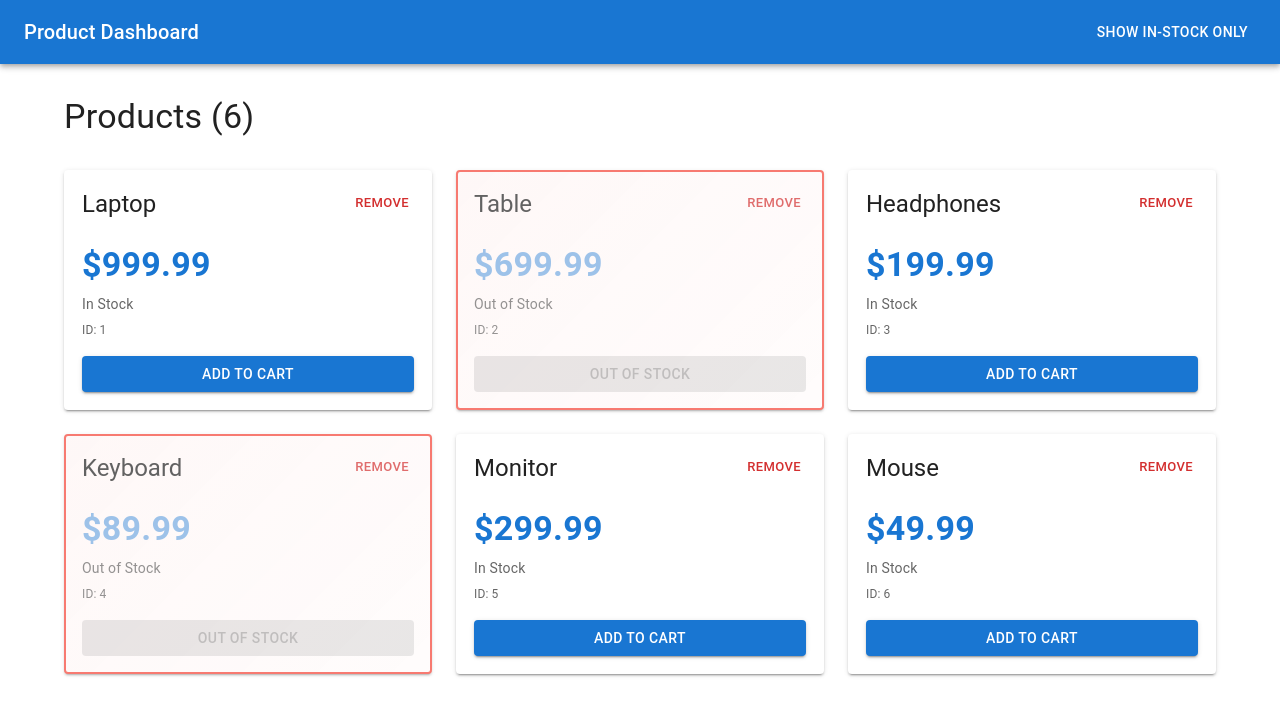
Product Dashboard Tests › removes product from the dashboard when "Remove" button is clicked
Note: Click the first remove button
Click the button "Remove" in the row of "Laptop" at (382, 203), box [350, 188, 414, 219]
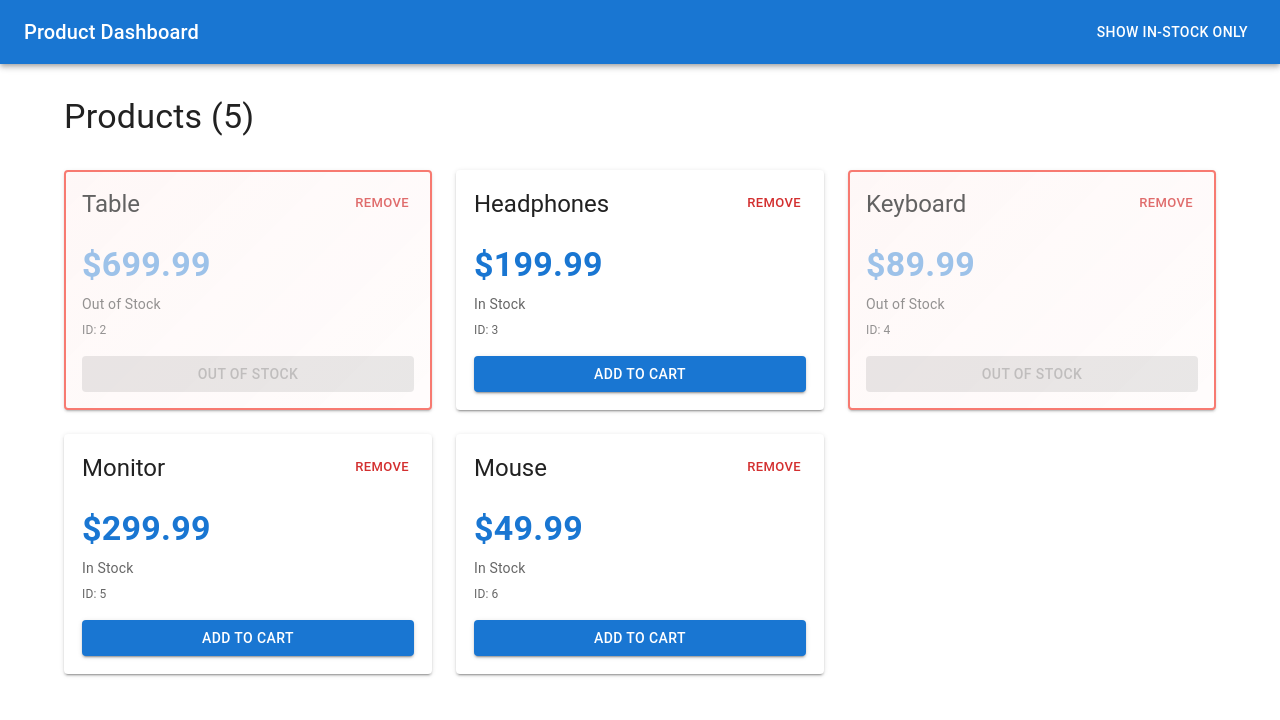
Expected: the number of buttons "Remove" is 5, [350, 188, 414, 219]; [742, 188, 806, 219]; [1134, 188, 1198, 219]; [350, 452, 414, 483]; [742, 452, 806, 483]
